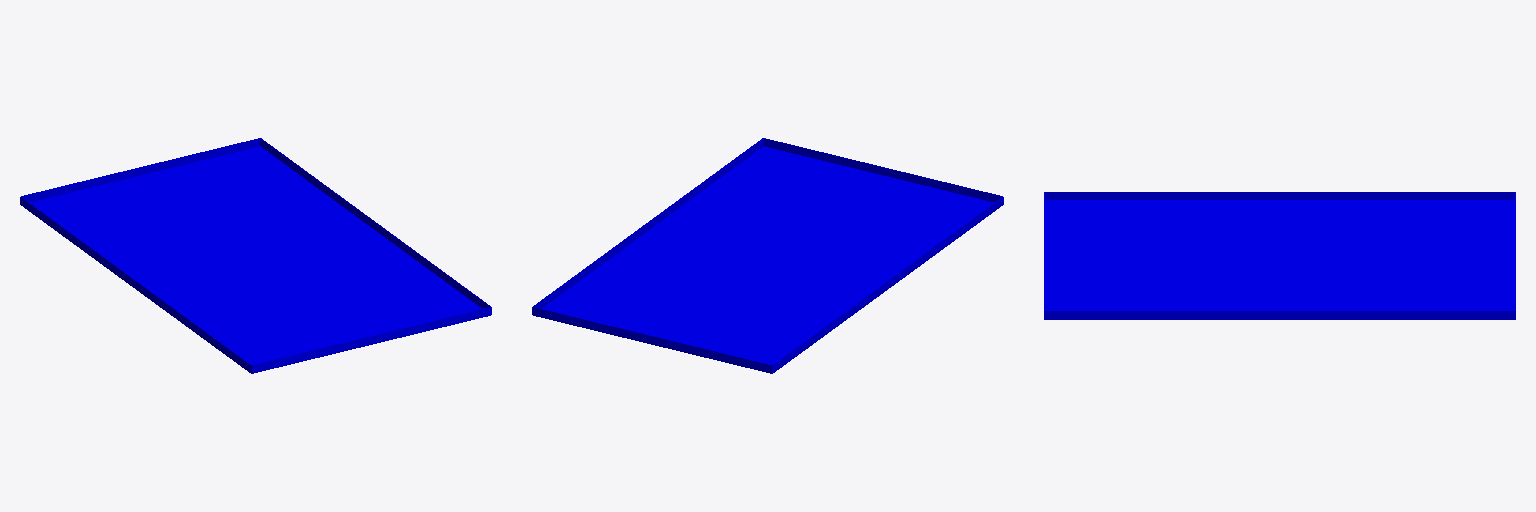
The robot description file, URDF, robot "sink":
<?xml version="1.0"?>
<robot name="sink">
  <link name="base_link">
     <visual>
      <origin xyz="0 0 -0.005" rpy="0 0 0" />
      <geometry>
        <box size="0.3 0.5 0.001" />
      </geometry>
      <material name="blue">
        <color rgba="0 0 1 1" />
      </material>
    </visual>
    <visual>
      <origin xyz="0 0.25 0" rpy="0 0 0" />
      <geometry>
        <box size="0.3 0.001 0.01" />
      </geometry>
      <material name="blue">
        <color rgba="0 0 1 1" />
      </material>
    </visual>
    <visual>
      <origin xyz="0 -0.25 0" rpy="0 0 0" />
      <geometry>
        <box size="0.3 0.001 0.01" />
      </geometry>
      <material name="blue">
        <color rgba="0 0 1 1" />
      </material>
    </visual>
    <visual>
      <origin xyz="0.15 0 0" rpy="0 0 0" />
      <geometry>
        <box size="0.001 0.5 0.01" />
      </geometry>
      <material name="blue">
        <color rgba="0 0 1 1" />
      </material>
    </visual>
    <visual>
      <origin xyz="-0.15 0 0" rpy="0 0 0" />
      <geometry>
        <box size="0.001 0.5 0.01" />
      </geometry>
      <material name="blue">
        <color rgba="0 0 1 1" />
      </material>
    </visual>

    <collision>
      <origin xyz="0 0 -0.005" rpy="0 0 0" />
      <geometry>
        <box size="0.3 0.5 0.001" />
      </geometry>
    </collision>
    <collision>
      <origin xyz="0 0.25 0" rpy="0 0 0" />
      <geometry>
        <box size="0.3 0.001 0.01" />
      </geometry>
    </collision>
    <collision>
      <origin xyz="0 -0.25 0" rpy="0 0 0" />
      <geometry>
        <box size="0.3 0.001 0.01" />
      </geometry>
    </collision>
    <collision>
      <origin xyz="0.15 0 0" rpy="0 0 0" />
      <geometry>
        <box size="0.001 0.5 0.01" />
      </geometry>
    </collision>
    <collision>
      <origin xyz="-0.15 0 0" rpy="0 0 0" />
      <geometry>
        <box size="0.001 0.5 0.01" />
      </geometry>
    </collision>
  </link>
</robot>

--- Render facts (derived) ---
3 views of the same robot in one strip: view 1: azimuth 30°, elevation 25°; view 2: azimuth 150°, elevation 25°; view 3: azimuth 270°, elevation 25° (orthographic).
Robot: sink — 1 links, 0 joints (none); root link base_link; default pose: all joints at 0.
Visible links, largest first — view 1: base_link; view 2: base_link; view 3: base_link.
Boxes of the visible links, bbox=[...] form: base_link: bbox=[20, 138, 491, 373]; base_link: bbox=[532, 138, 1003, 373]; base_link: bbox=[1044, 192, 1515, 319].
Size in the robot's own frame: 0.301 by 0.501 by 0.0105 metres.
Geometry: primitives only (box / cylinder / sphere), no mesh files.